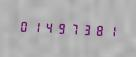eight: (89, 21, 100, 38)
four: (41, 18, 52, 36)
nine: (53, 19, 64, 36)
one: (29, 17, 40, 35), (101, 21, 112, 39)
seven: (65, 19, 76, 37)
three: (77, 20, 88, 38)
zero: (17, 17, 28, 34)
